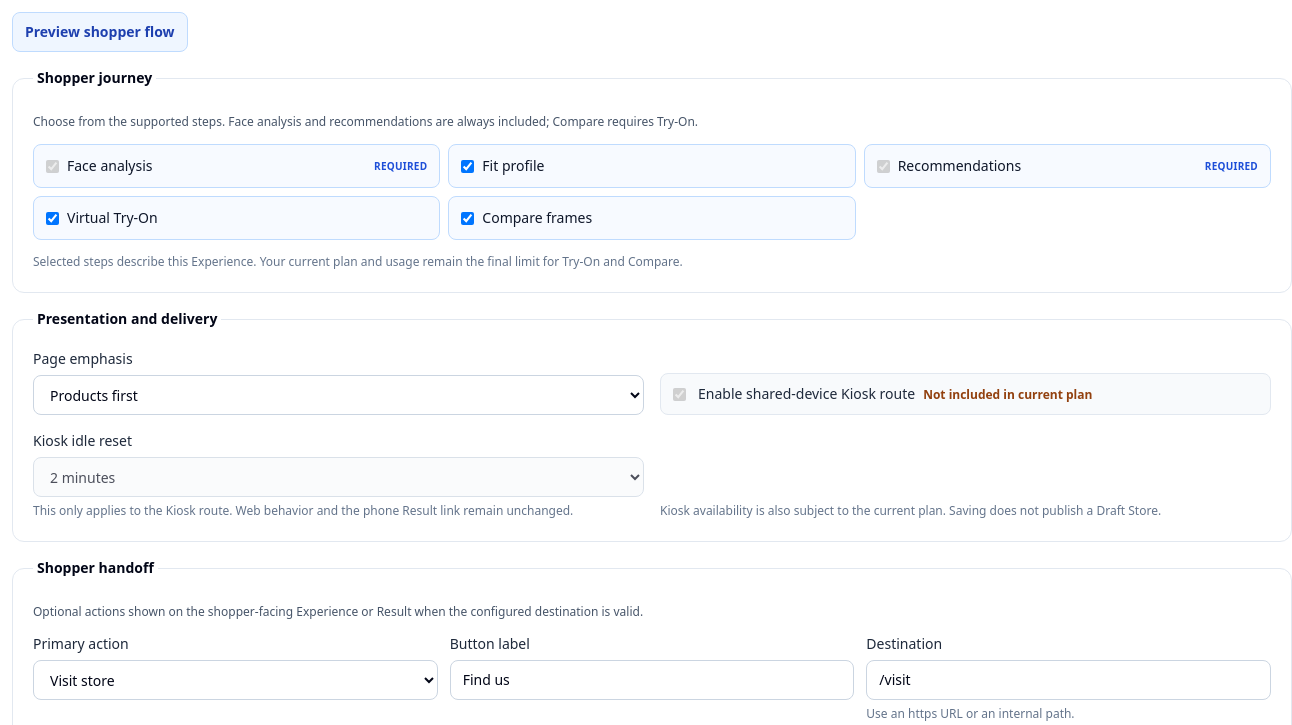
MerchantExperienceConfiguration › previews the effective shopper flow without saving and disables Kiosk when it is not entitled
This screenshot has width=1292, height=725.
Click the button "Preview shopper flow".
click(100, 32)  # box 12,12 -> 188,52
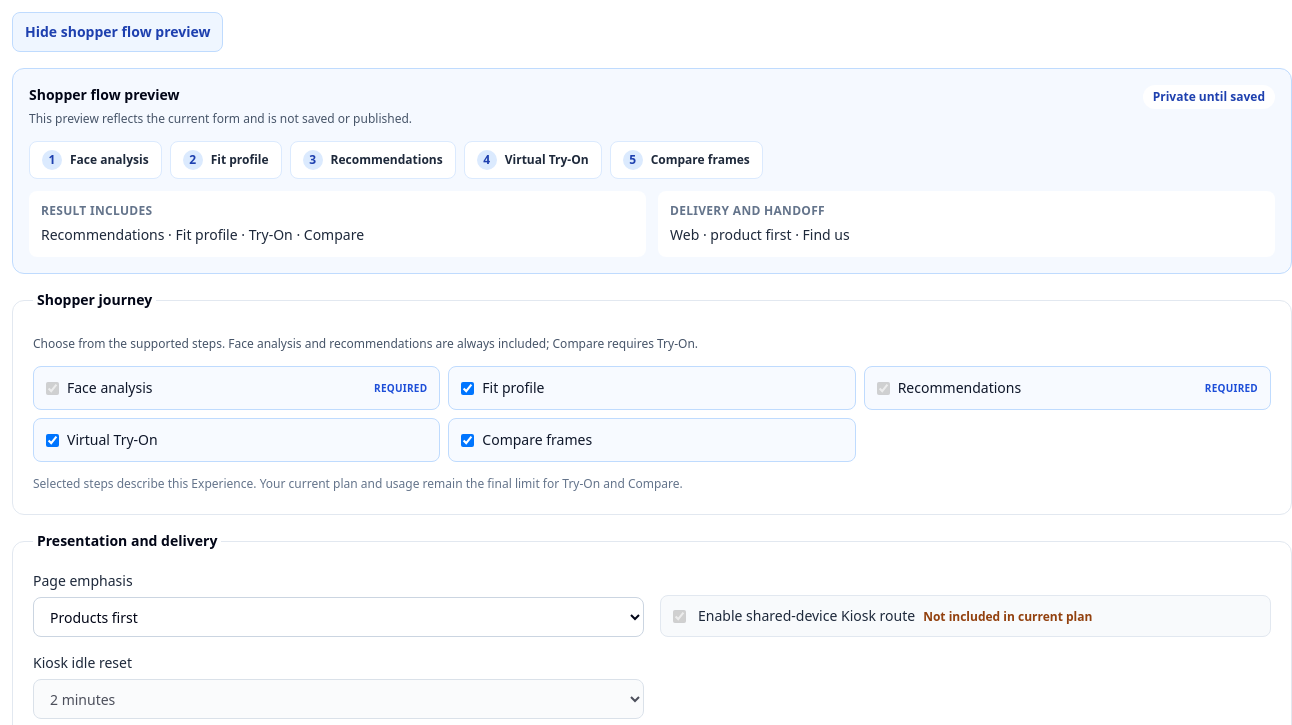
Result: the element "Shopper flow preview" shows "Try-On" at 505,151 -> 589,168
Result: the element "Shopper flow preview" shows "Compare" at 651,151 -> 750,168
Result: the element "Shopper flow preview" shows "Recommendations" at 331,151 -> 443,168
